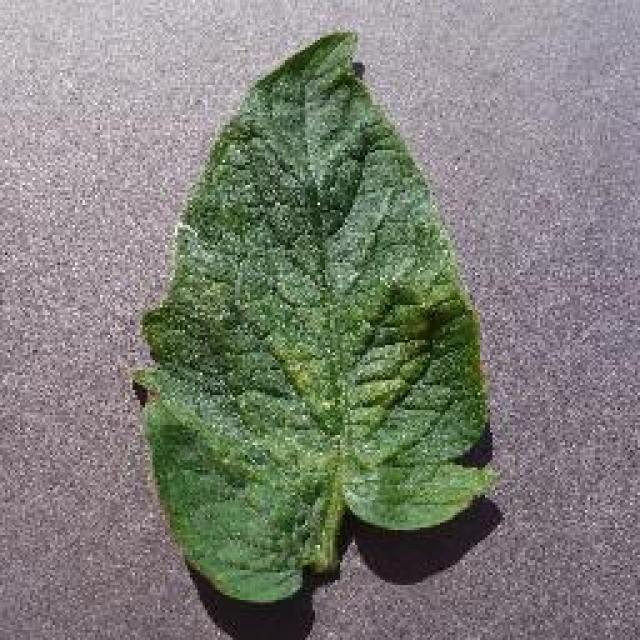Tomato spider mites leaf: (140, 28, 492, 607)
